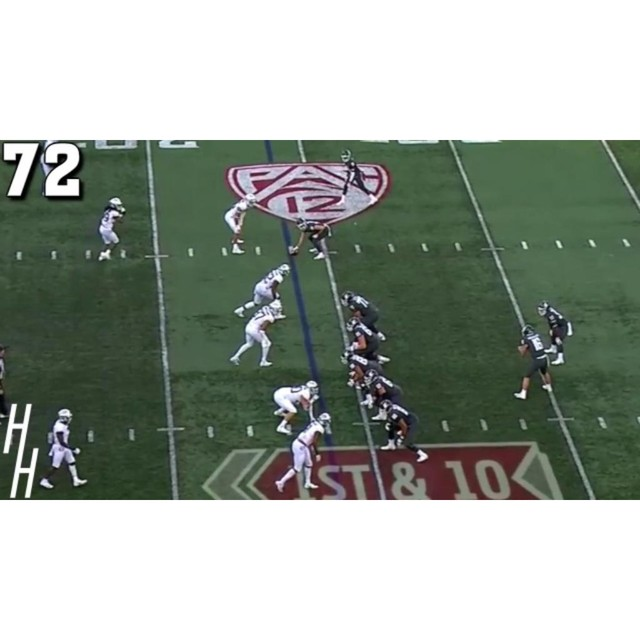american-football-player: (275, 414, 331, 493), (39, 408, 88, 490), (228, 300, 285, 368), (512, 324, 555, 400), (378, 399, 429, 461), (233, 264, 291, 317), (272, 380, 320, 435), (341, 350, 383, 409), (340, 290, 386, 342), (537, 301, 572, 366), (223, 192, 257, 255), (343, 318, 389, 364), (364, 368, 404, 420), (95, 197, 127, 261), (289, 216, 333, 260)
referee: (0, 341, 14, 425)
